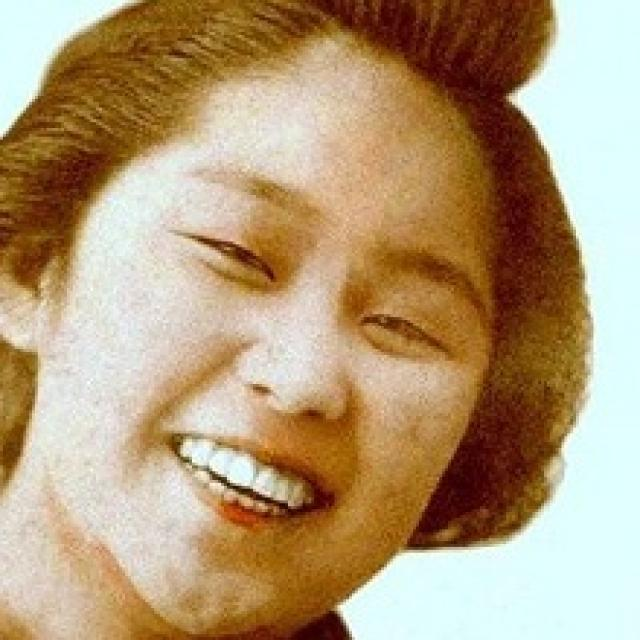Normal: (40, 32, 509, 637)
